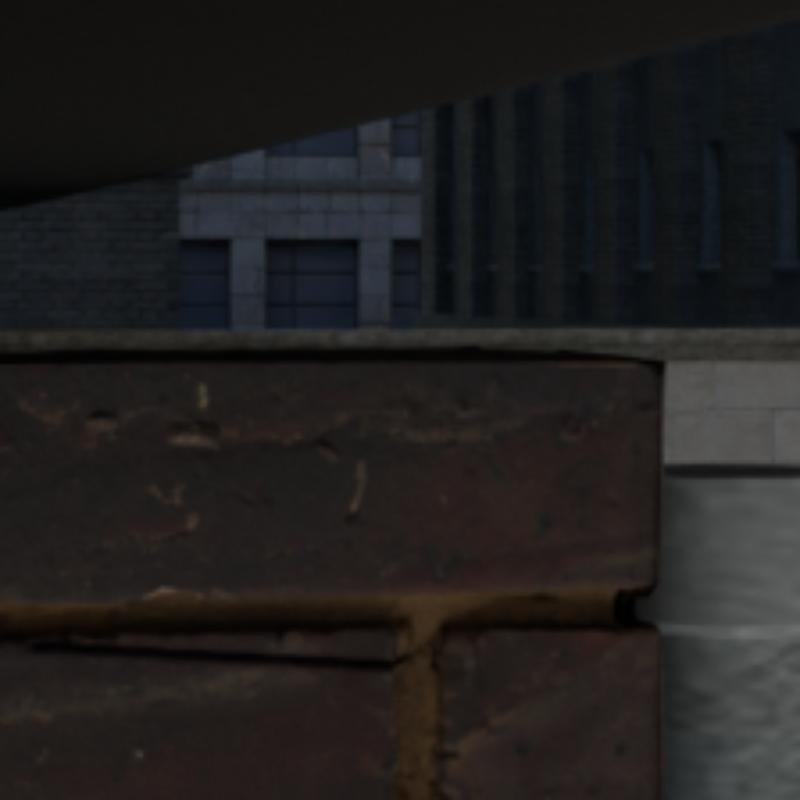pothole: (0, 607, 459, 675)
